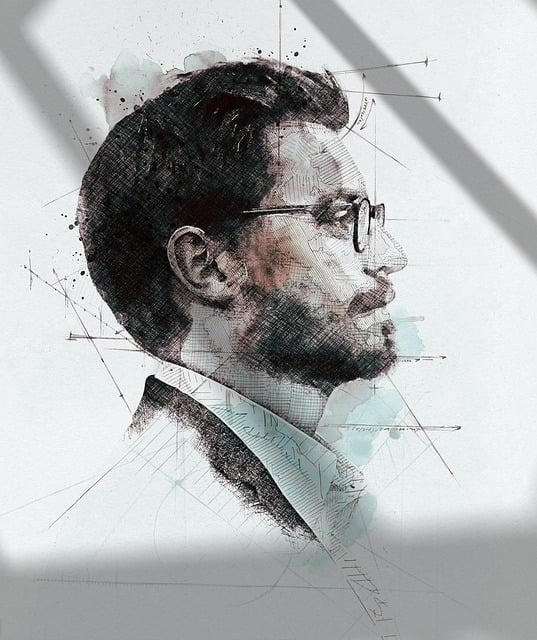Non_Gorille: (33, 22, 483, 593)
